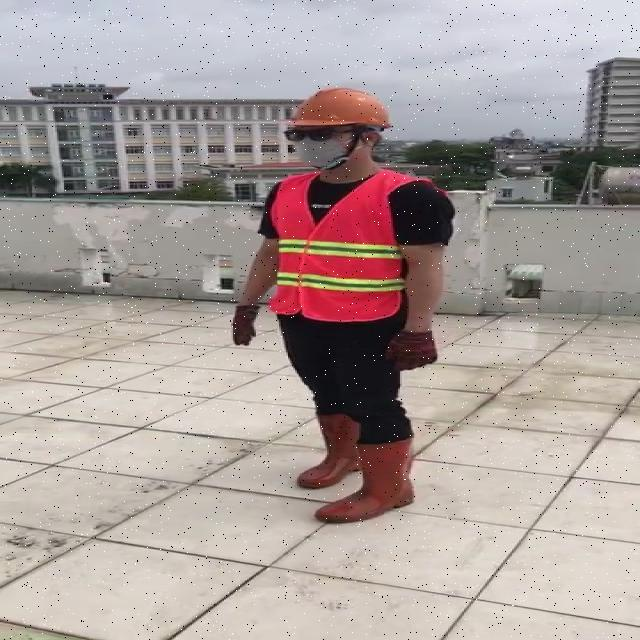Hard_hat: (280, 82, 400, 139)
Person: (224, 81, 459, 533)
Vest: (279, 168, 409, 324)
